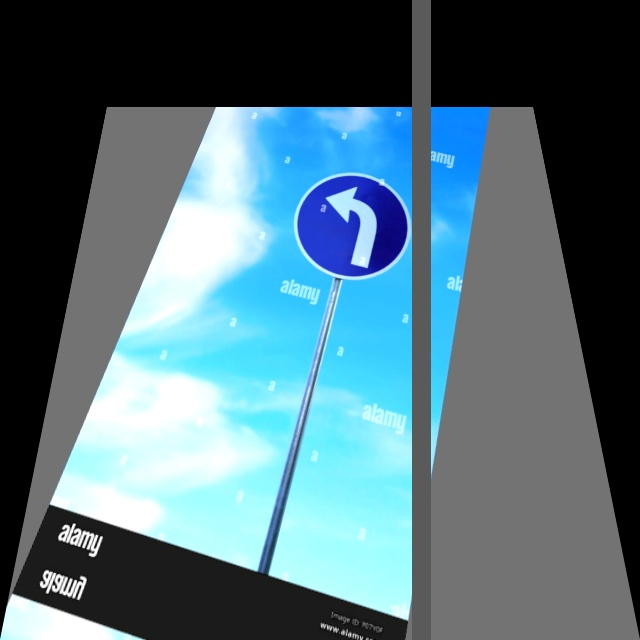Compulsory_Turn_Left_Ahead: (282, 161, 427, 296)
